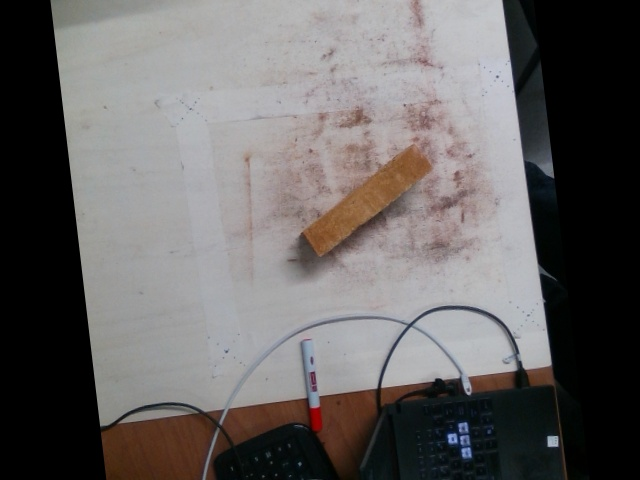brick-side: (302, 143, 430, 258)
